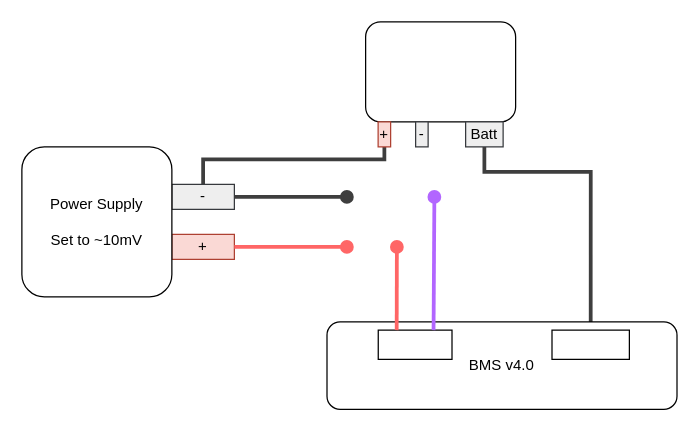
Image size: 700x444. Some labels were removed from this diagram. Each missing label, with the box of its shape:
Battery: (551, 329, 629, 359)
Bike: (377, 329, 452, 359)
Test Battery Pack: (364, 21, 516, 122)
